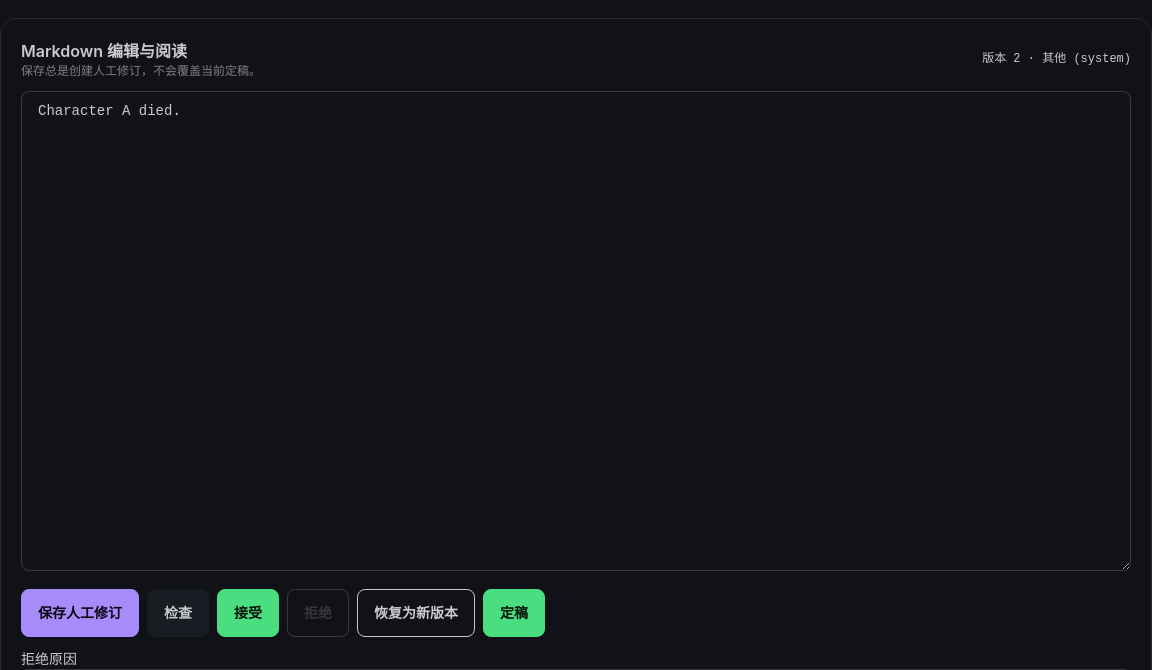
Scenario: ChapterVersions page › saves editor content as a new human_revision while leaving the displayed Active Final unchanged
(page scrolled)
Replace the text in the text box named "章节 Markdown 编辑器" with "Character A is severely injured but escaped alive." at (576,331), box x1=21 y1=91 x2=1131 y2=571
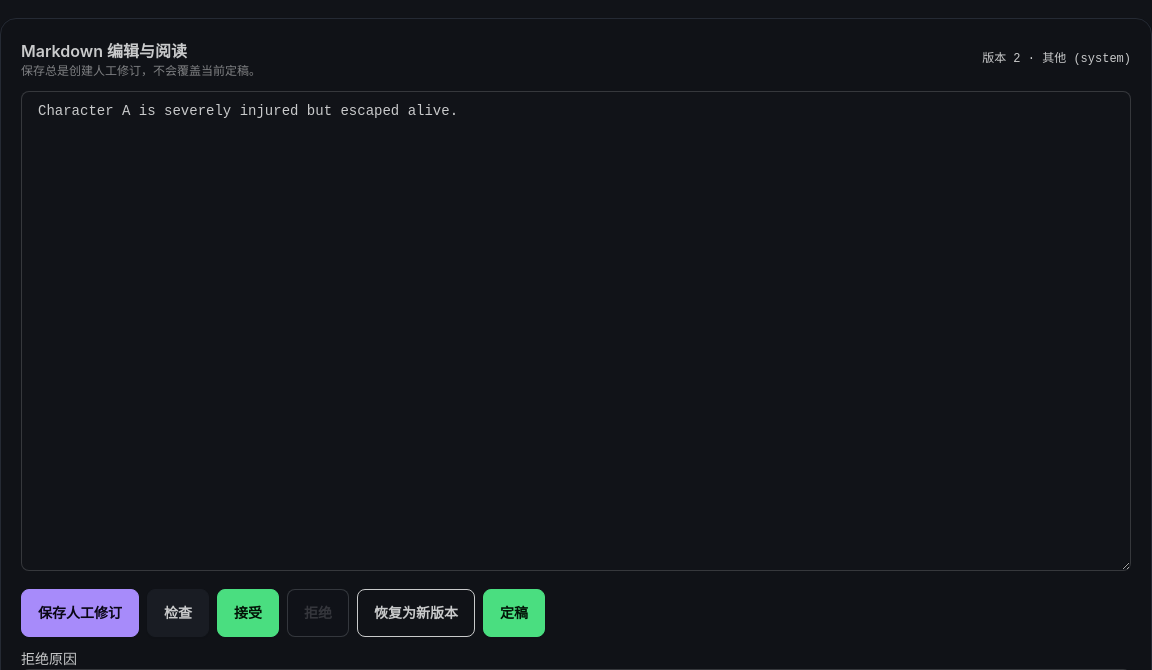
Click the button "保存人工修订".
click(80, 613)  # box x1=21 y1=589 x2=139 y2=637
(page scrolled)
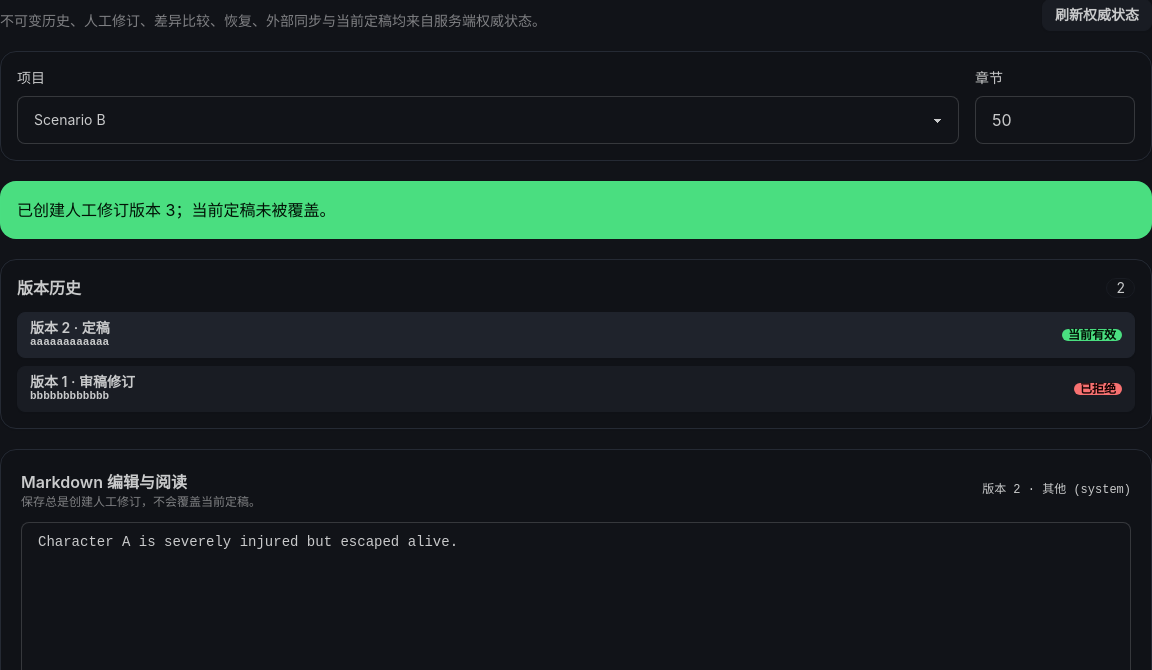
Check: the text "版本 2 · 定稿" is shown, box x1=30 y1=319 x2=110 y2=336
Check: the text "已创建人工修订版本 3；当前定稿未被覆盖。" is shown, box x1=0 y1=181 x2=1151 y2=239
